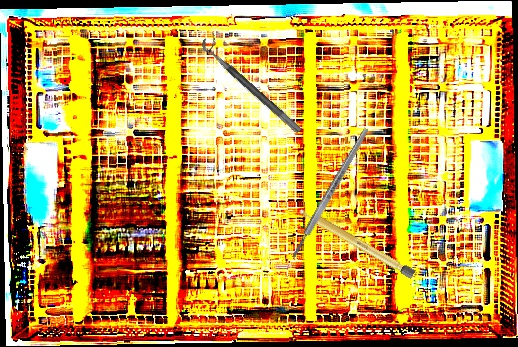Fixation Ring: (198, 31, 310, 135)
Scalpel Handle: (289, 126, 371, 260), (297, 204, 416, 280)
